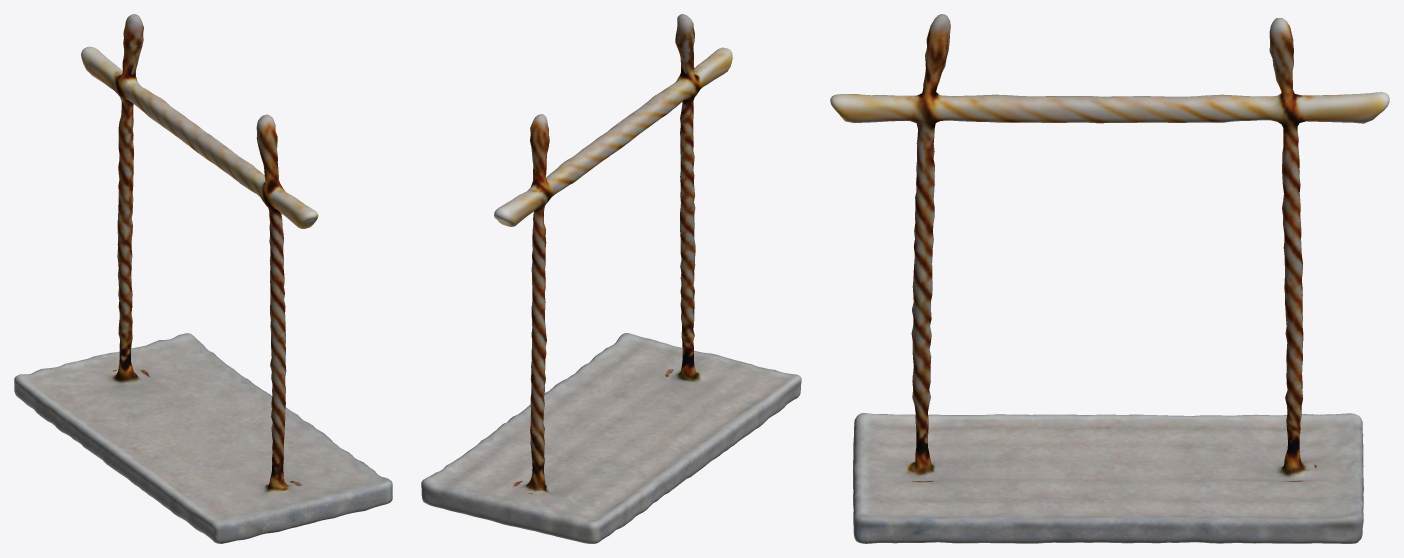
Rendered from 398115437867_a_single_swing_with.fbx.
3 renders of one model, left to right at view 1: azimuth 30°, elevation 25°; view 2: azimuth 150°, elevation 25°; view 3: azimuth 270°, elevation 25°, orthographic. The views are drawn at different scales.
Visible parts, largest first — view 1: mesh; view 2: mesh; view 3: mesh.
Boxes of the visible parts, x1,y1,x2,y2 form: mesh: (14,14,392,543); mesh: (421,14,801,543); mesh: (830,14,1389,543).
Bounding box in the file's own units: 45.52 × 93.74 × 99.79.
